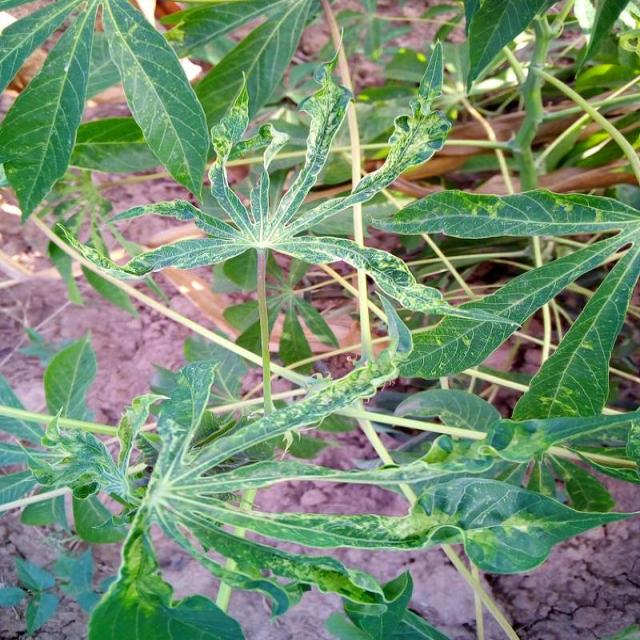cassava leaf: (0, 1, 638, 637), (100, 0, 210, 204)
